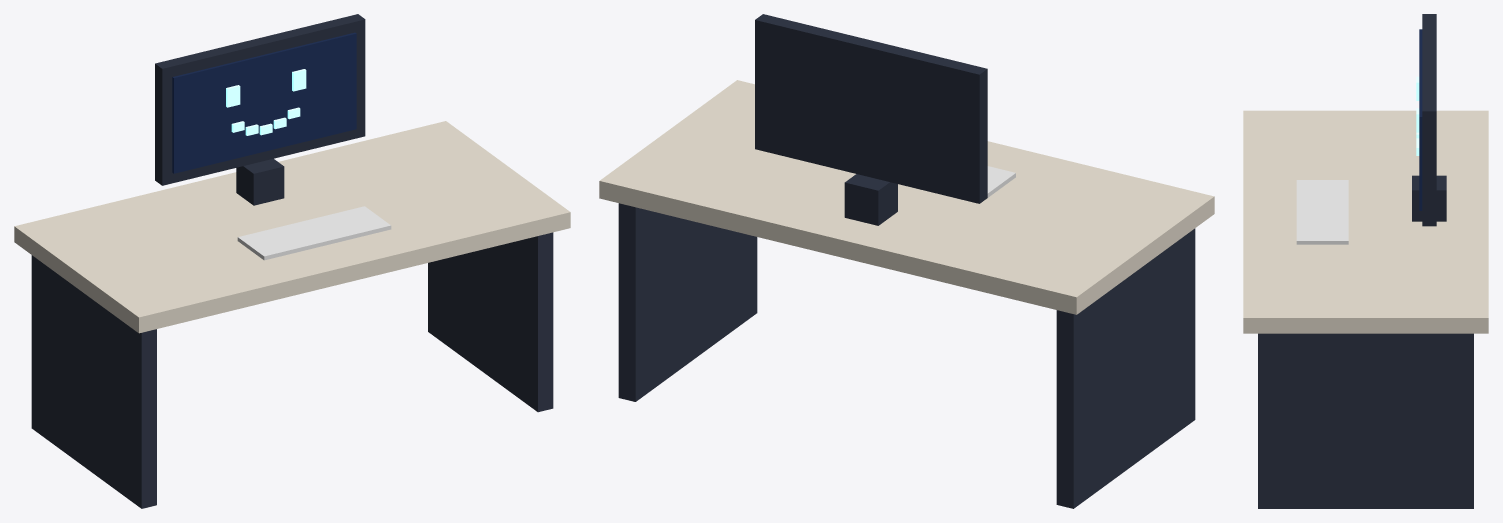
File: desk1.glb
The picture shows the model from 3 angles, left to right: view 1: azimuth 30°, elevation 25°; view 2: azimuth 150°, elevation 25°; view 3: azimuth 270°, elevation 25°; orthographic projection. The views are drawn at different scales.
Parts seen in each view (by area): view 1: desk_top, desk_leg, mon_screen, desk_leg.001, mon_body, keyboard, mon_foot; view 2: desk_top, mon_body, desk_leg, desk_leg.001, mon_foot; view 3: desk_top, desk_leg.001, keyboard, mon_body, mon_foot, mon_screen.
Boxes of the visible parts, <box> form: desk_top: <box>14,121,570,333</box>; desk_leg: <box>31,255,156,508</box>; mon_screen: <box>172,32,356,173</box>; desk_leg.001: <box>428,232,553,412</box>; mon_body: <box>155,14,365,185</box>; keyboard: <box>237,206,391,260</box>; mon_foot: <box>236,158,284,205</box>; desk_top: <box>599,80,1214,314</box>; mon_body: <box>755,14,987,203</box>; desk_leg: <box>1056,228,1195,508</box>; desk_leg.001: <box>618,203,757,401</box>; mon_foot: <box>844,174,897,225</box>; desk_top: <box>1243,110,1488,333</box>; desk_leg.001: <box>1258,333,1473,508</box>; keyboard: <box>1296,180,1348,244</box>; mon_body: <box>1422,14,1436,226</box>; mon_foot: <box>1412,175,1446,221</box>; mon_screen: <box>1419,29,1422,210</box>.
Size of the model in its own units: 1.7 by 1.33 by 0.85.
